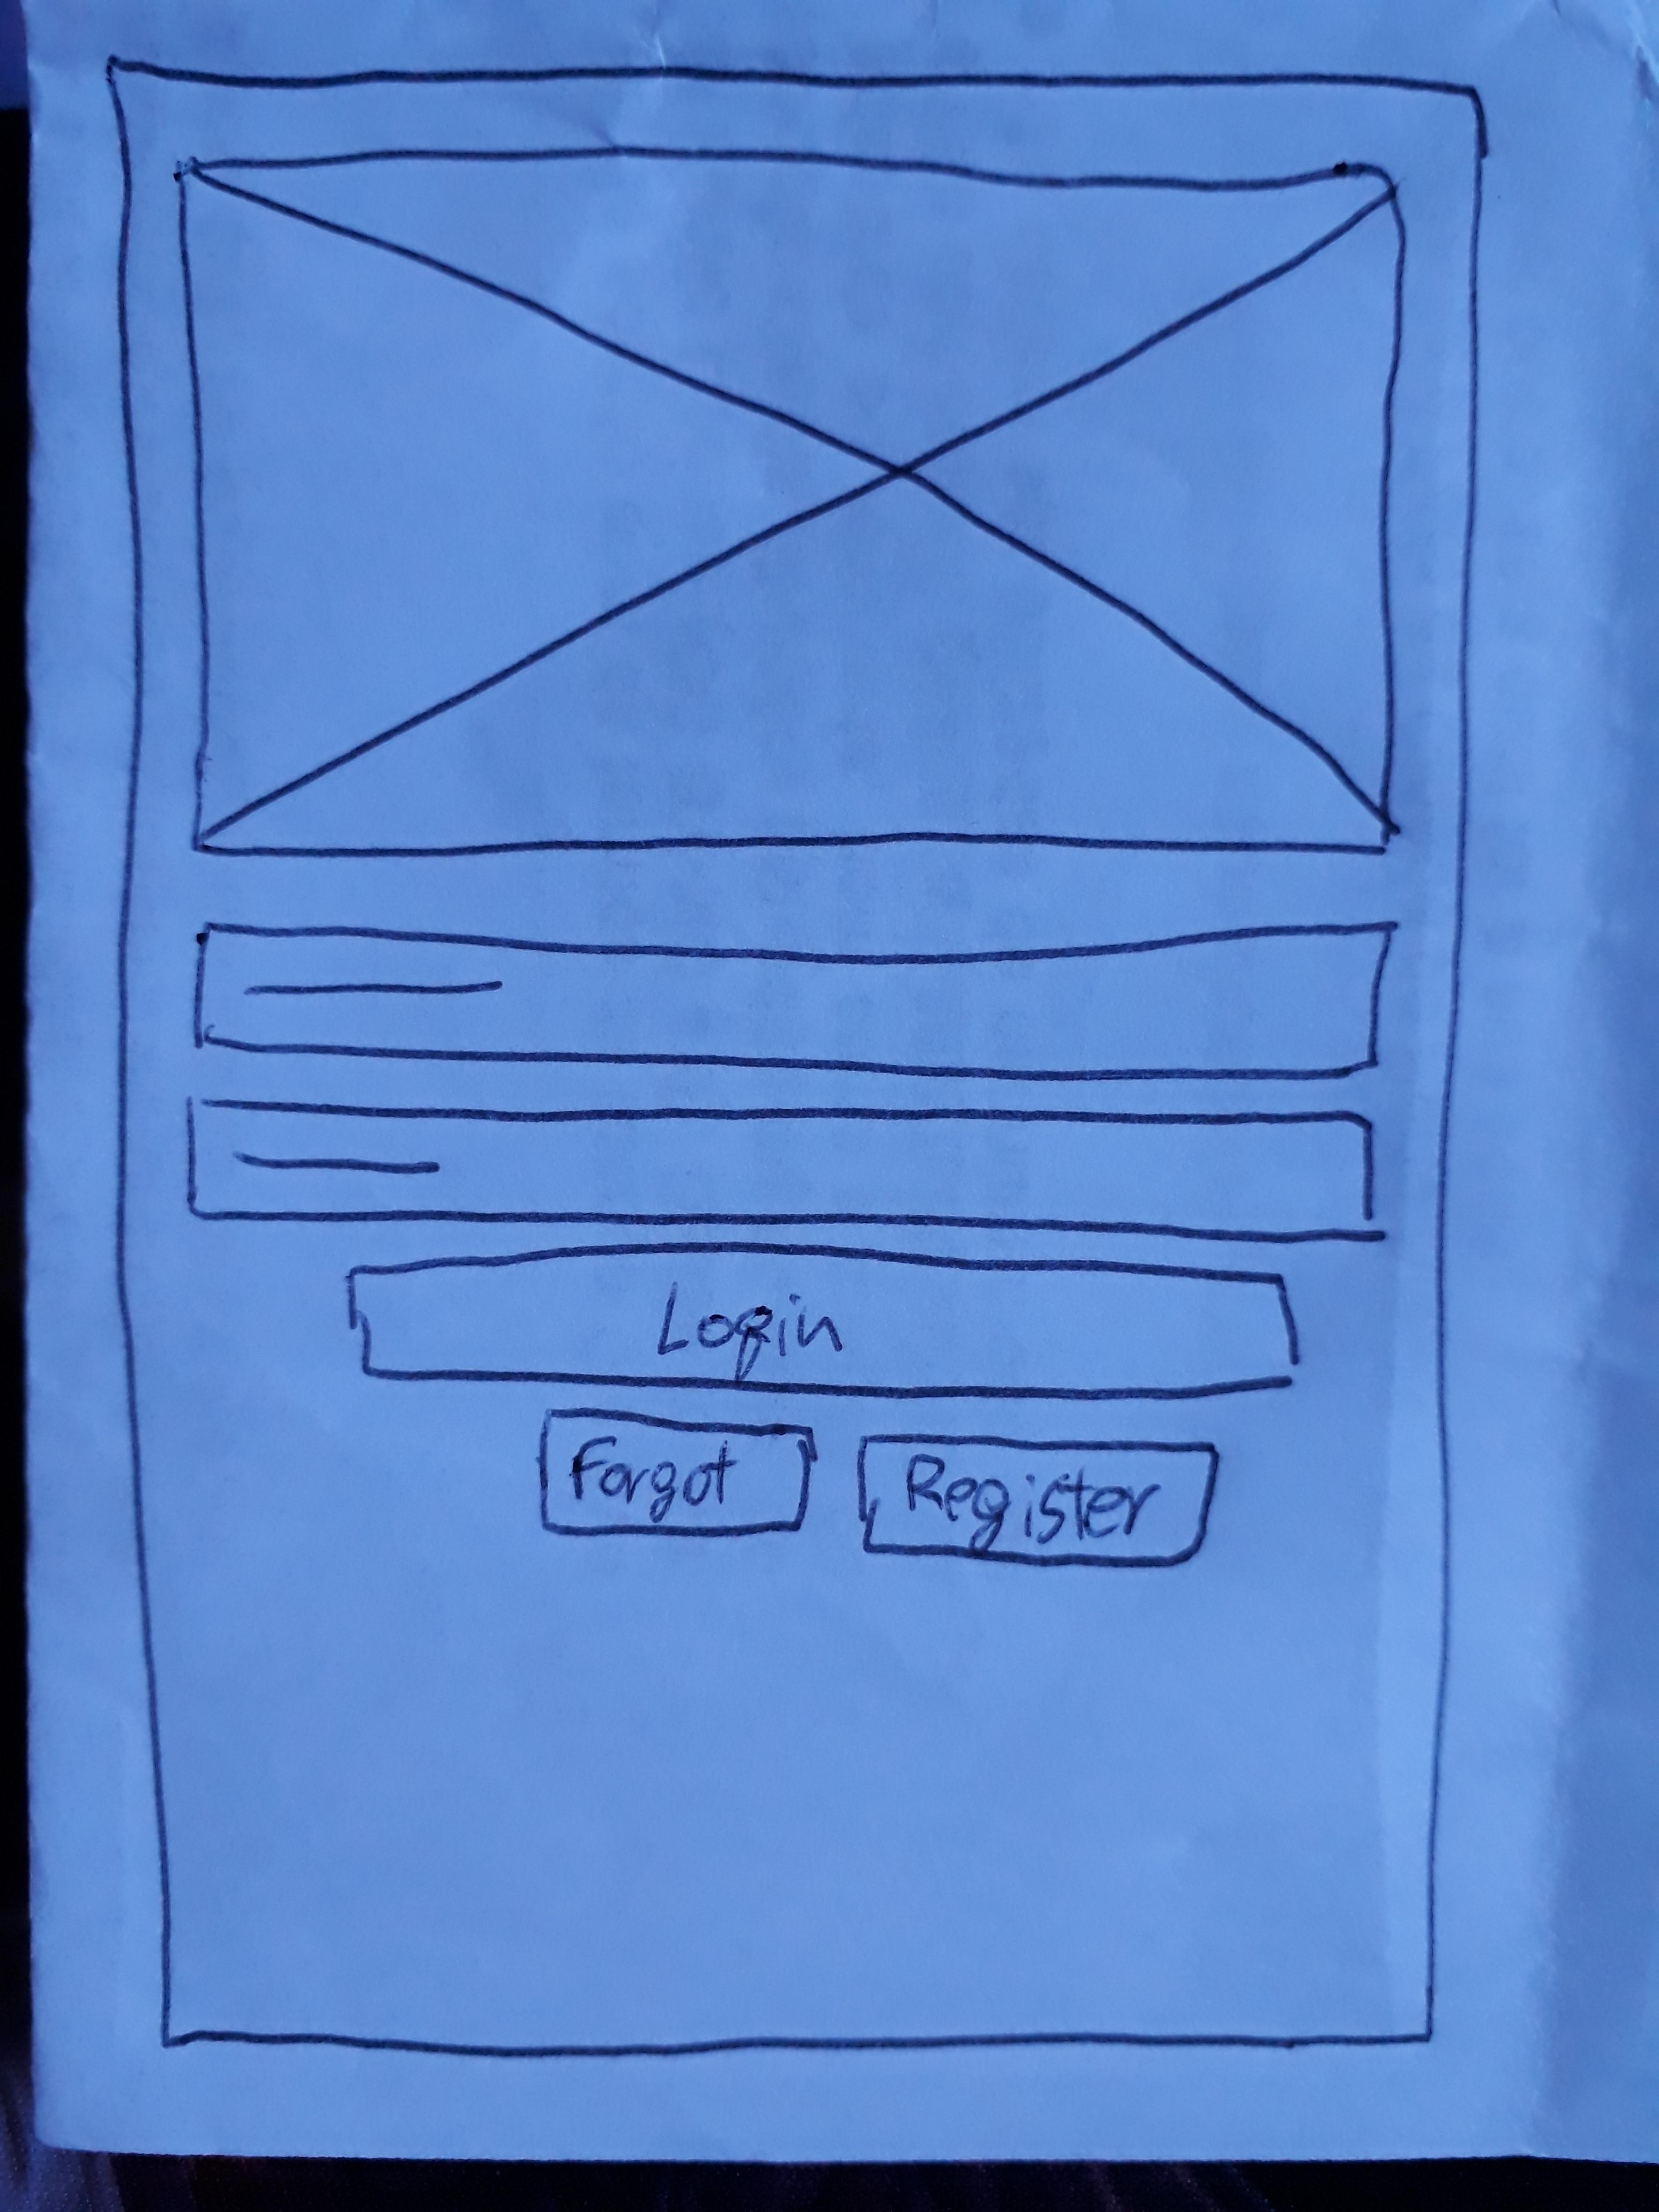Button: (347, 1244, 1298, 1402), (859, 1432, 1220, 1569), (537, 1406, 819, 1536)
Image: (171, 146, 1408, 857)
Screen: (105, 54, 1486, 2055)
TextBox: (190, 920, 1403, 1082), (188, 1099, 1389, 1247)
